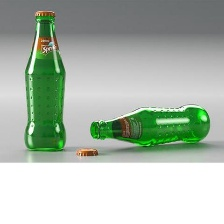bottle: (19, 6, 69, 153), (86, 100, 213, 151)
